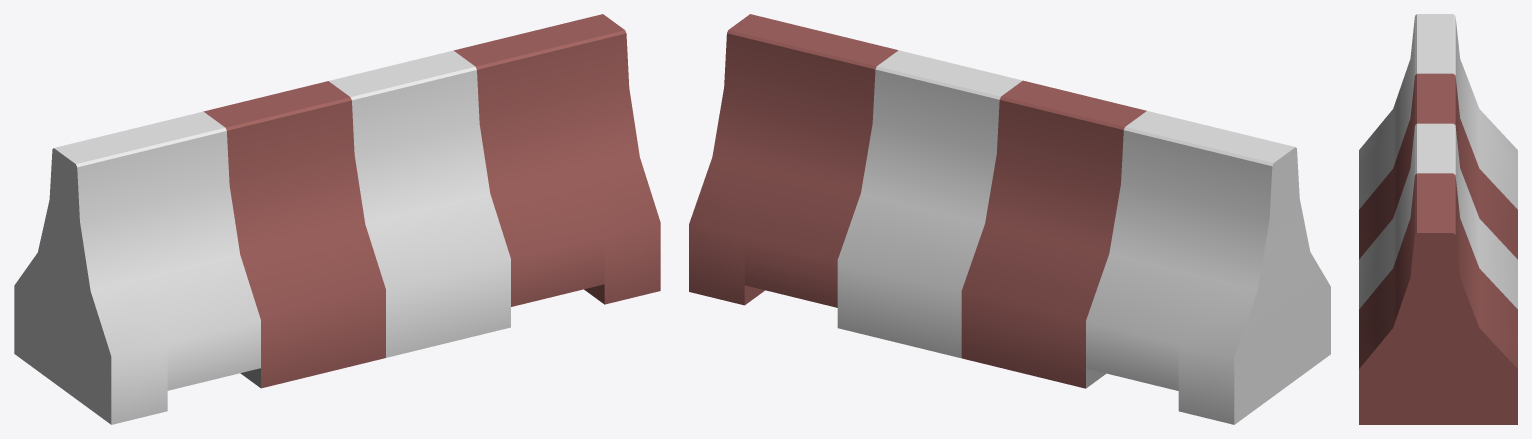
The model's file is RoadworkBarrier.fbx.
The picture shows the model from 3 angles, left to right: view 1: azimuth 30°, elevation 25°; view 2: azimuth 150°, elevation 25°; view 3: azimuth 270°, elevation 25°; orthographic projection. The views are drawn at different scales.
Visible parts, largest first — view 1: pasted__pCube9; view 2: pasted__pCube9; view 3: pasted__pCube9.
Part boxes in pixels (x1,y1,x2,y2): pasted__pCube9: [14, 14, 660, 424]; pasted__pCube9: [689, 14, 1330, 424]; pasted__pCube9: [1359, 14, 1517, 424].
Bounding box in the file's own units: 31.21 × 12.75 × 9.57.
